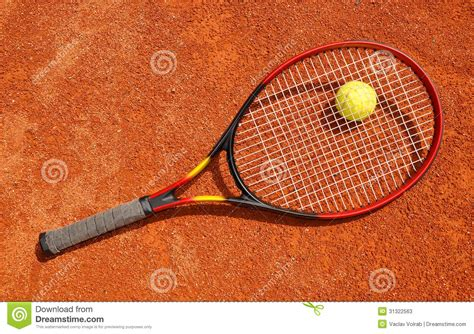tennis_ball: (335, 80, 376, 121)
